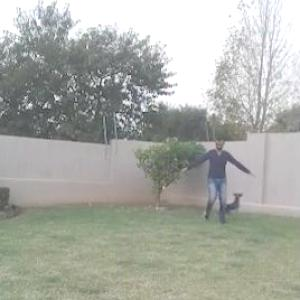land: (168, 131, 250, 228)
